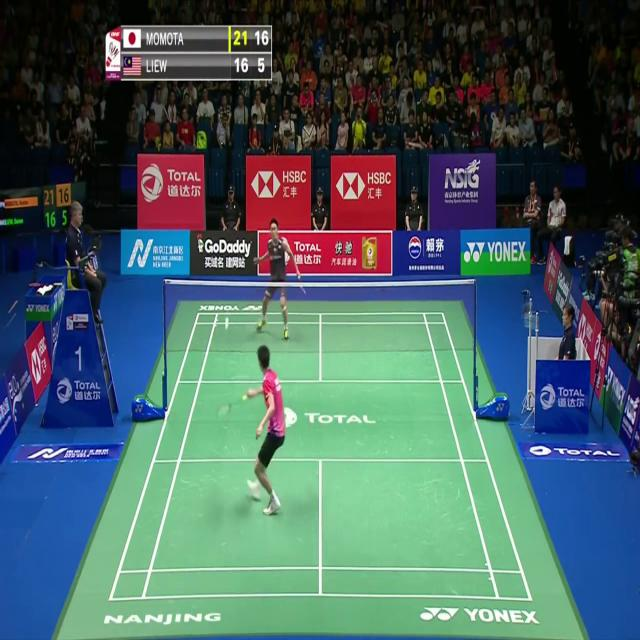Shuttlecock: (224, 316, 230, 328)
